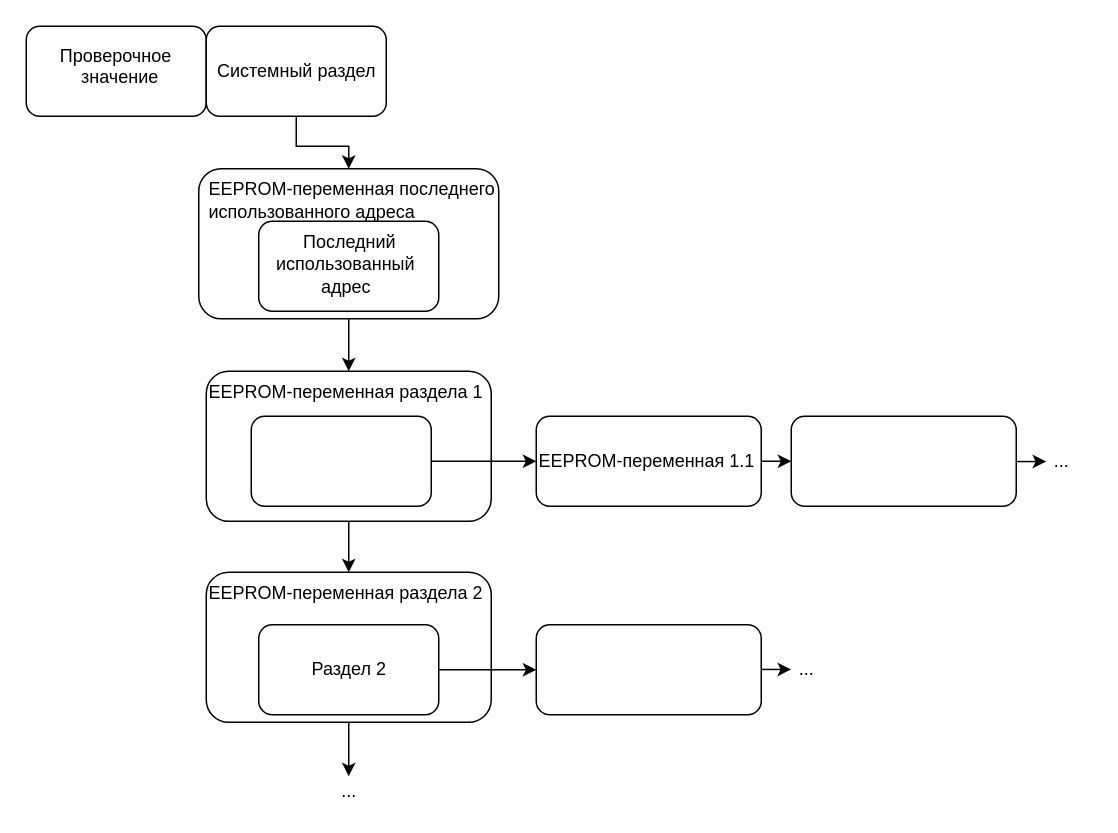
This 1118x833 diagram has some shape labels left out. Here are the shapes that lost their labels. From the top down, the centre of each, then its label:
the point at 340,460: Раздел 1
the point at 903,460: EEPROM-переменная 1.2
the point at 648,669: EEPROM-переменная 2.1
